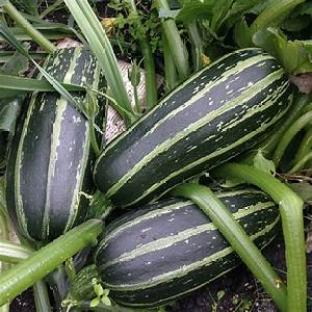Zucchini: (94, 48, 291, 205), (95, 199, 239, 306), (7, 93, 93, 241)
